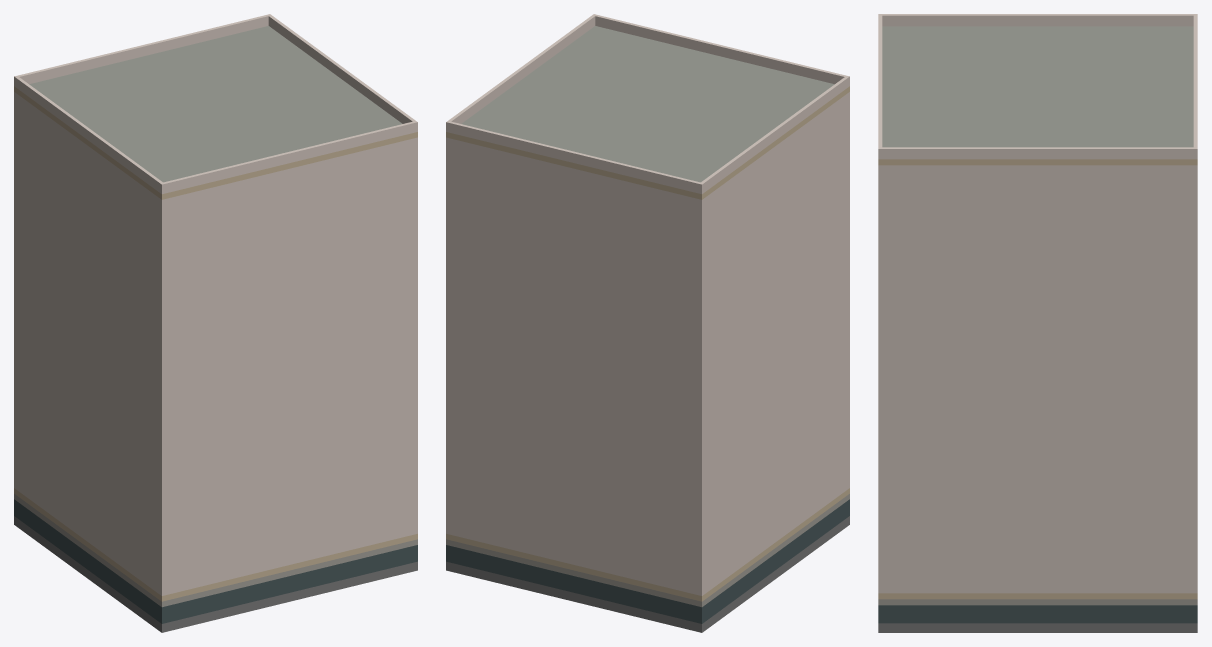
File: far.fbx
The picture shows the model from 3 angles, left to right: view 1: azimuth 30°, elevation 25°; view 2: azimuth 150°, elevation 25°; view 3: azimuth 270°, elevation 25°; orthographic projection. The views are drawn at different scales.
Visible parts, largest first — view 1: a2019/250/far; view 2: a2019/250/far; view 3: a2019/250/far.
Boxes of the visible parts, bbox=[...] form: a2019/250/far: bbox=[14, 14, 417, 632]; a2019/250/far: bbox=[446, 14, 849, 632]; a2019/250/far: bbox=[878, 14, 1197, 632].
Size of the model in its own units: 24 by 40.17 by 24.
